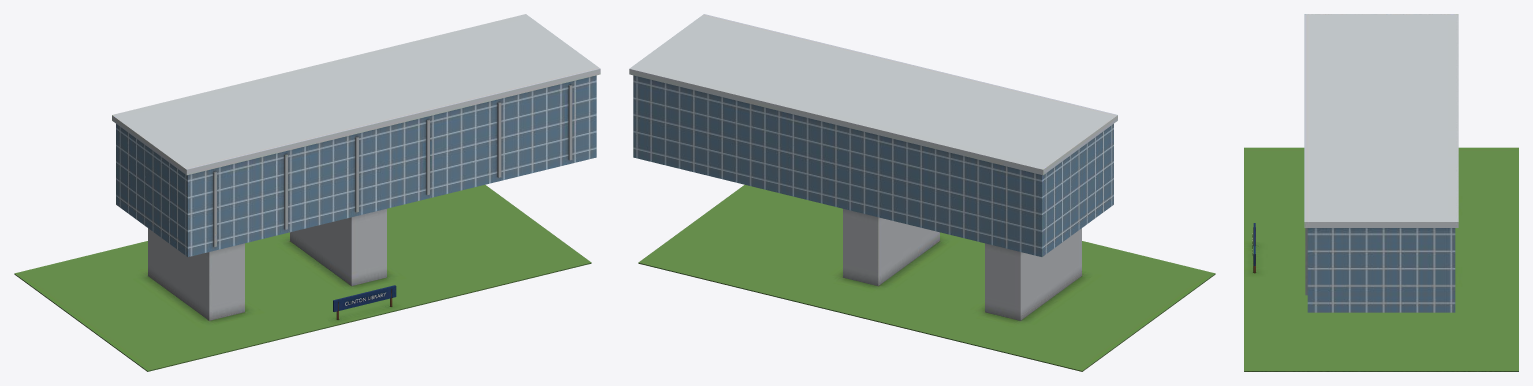
Rendered from clinton_library.glb.
The picture shows the model from 3 angles, left to right: view 1: azimuth 30°, elevation 25°; view 2: azimuth 150°, elevation 25°; view 3: azimuth 270°, elevation 25°; orthographic projection. The views are drawn at different scales.
Visible parts, largest first — view 1: clinton_library; view 2: clinton_library; view 3: clinton_library.
Boxes of the visible parts, <box> form: clinton_library: <box>14,14,600,371</box>; clinton_library: <box>629,14,1215,371</box>; clinton_library: <box>1244,14,1518,371</box>.
Size of the model in its own units: 54.3 by 17.65 by 26.
1 material, 1 textured.
